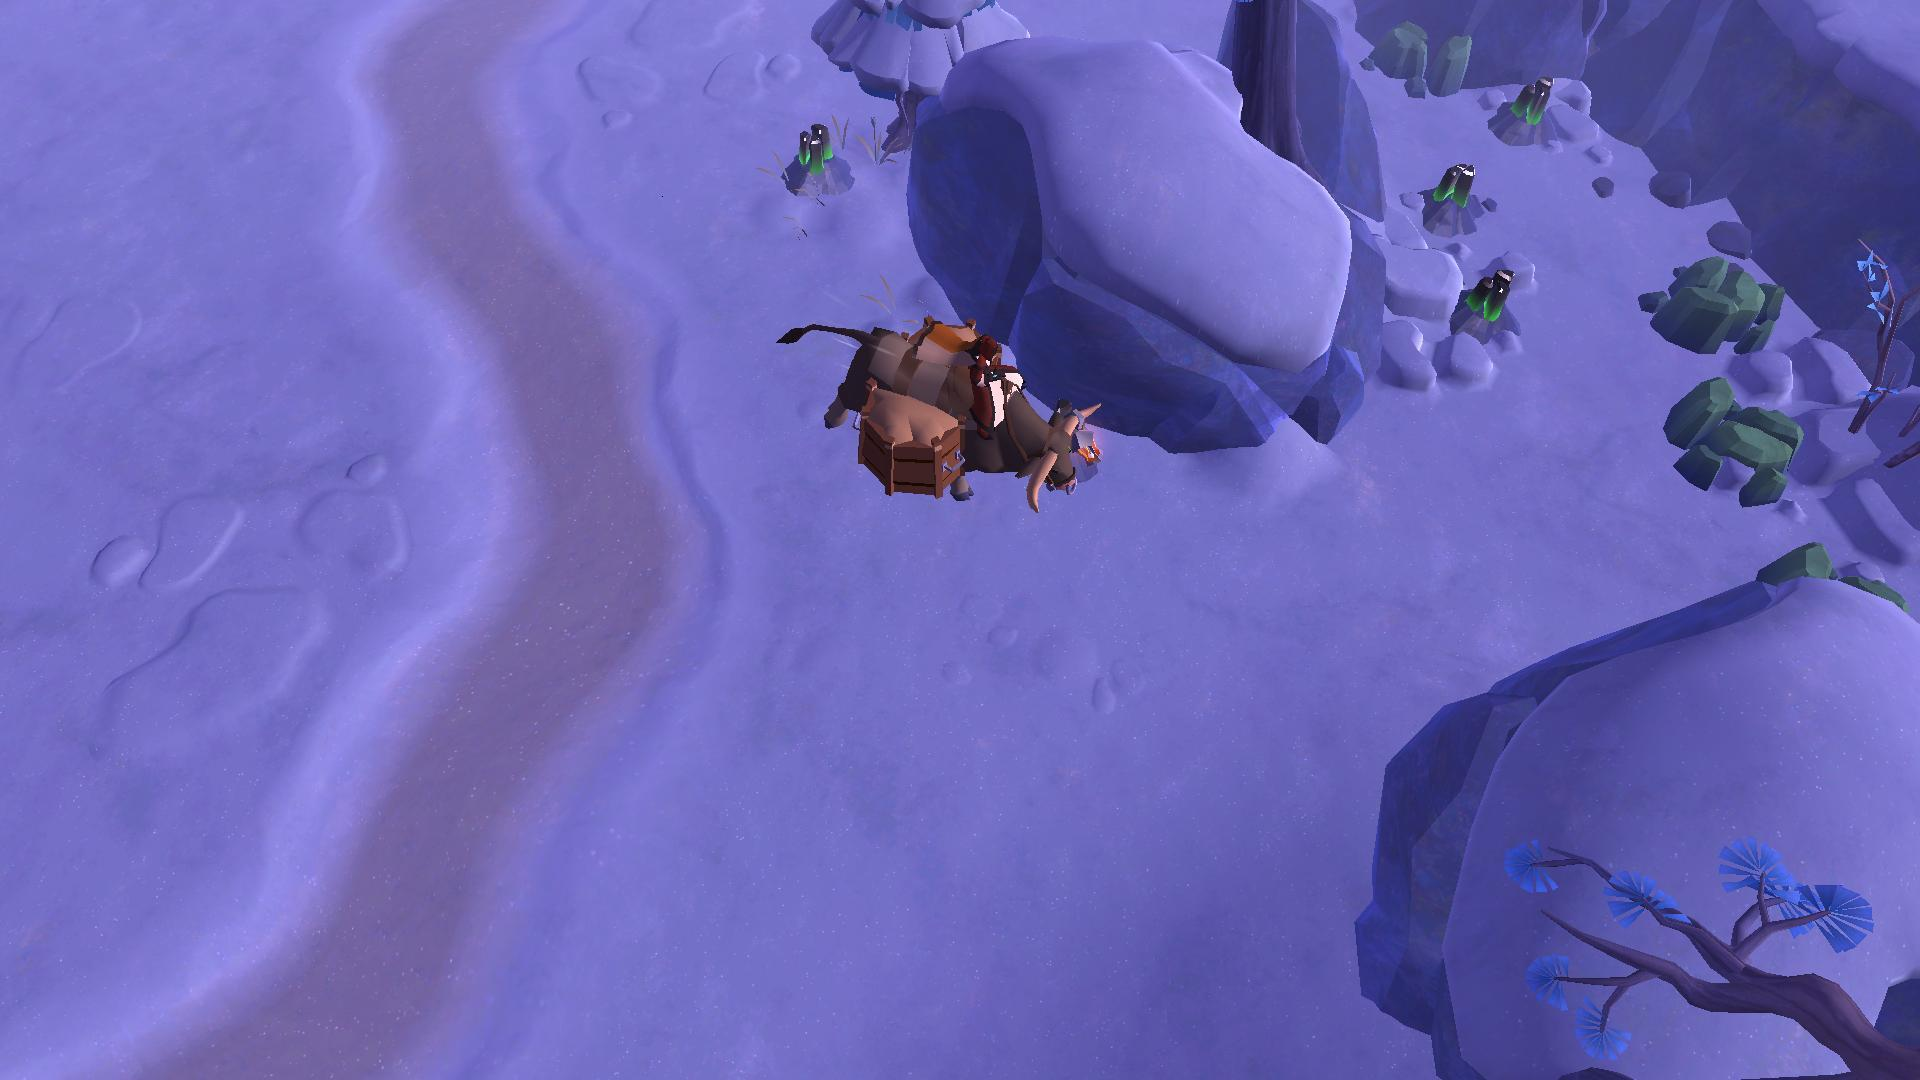ore_t3: (1418, 154, 1482, 228), (1497, 69, 1559, 141), (786, 121, 841, 195), (1462, 264, 1523, 323)
rock_t3: (1646, 373, 1807, 505), (1629, 236, 1789, 349), (1759, 522, 1903, 618), (1352, 15, 1478, 107)
